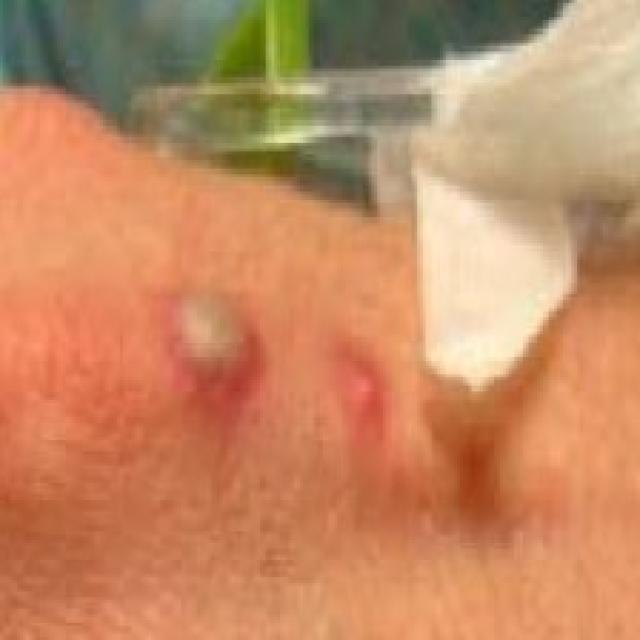Eczema: (159, 308, 265, 391)
